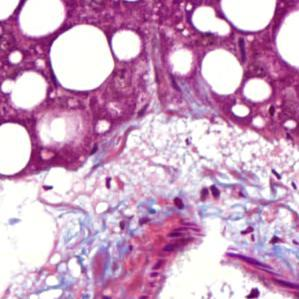steatosis: (51, 22, 115, 94), (196, 47, 246, 96), (108, 29, 147, 60)
